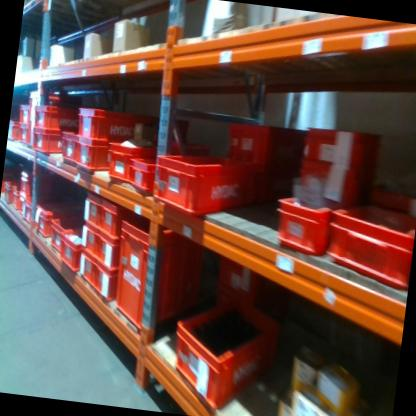pallet: (24, 0, 44, 8)
small_load_carrier: (166, 286, 287, 416), (109, 208, 204, 341), (320, 198, 416, 292), (149, 145, 256, 221), (290, 160, 381, 221), (297, 117, 384, 169), (272, 185, 334, 253), (223, 118, 299, 173), (209, 255, 271, 314), (102, 128, 159, 189), (73, 102, 153, 143), (32, 196, 87, 246), (47, 214, 84, 261), (88, 253, 121, 304), (73, 132, 111, 174), (126, 152, 160, 197), (95, 197, 128, 240), (91, 231, 124, 273), (33, 103, 77, 132), (57, 223, 85, 267), (29, 128, 66, 157), (16, 168, 52, 197), (73, 251, 97, 287), (76, 221, 99, 257), (83, 188, 103, 227), (61, 129, 81, 162), (20, 196, 37, 227), (16, 101, 32, 126), (9, 116, 23, 141), (2, 180, 14, 204), (8, 185, 21, 207), (18, 121, 30, 141), (17, 190, 27, 214)
